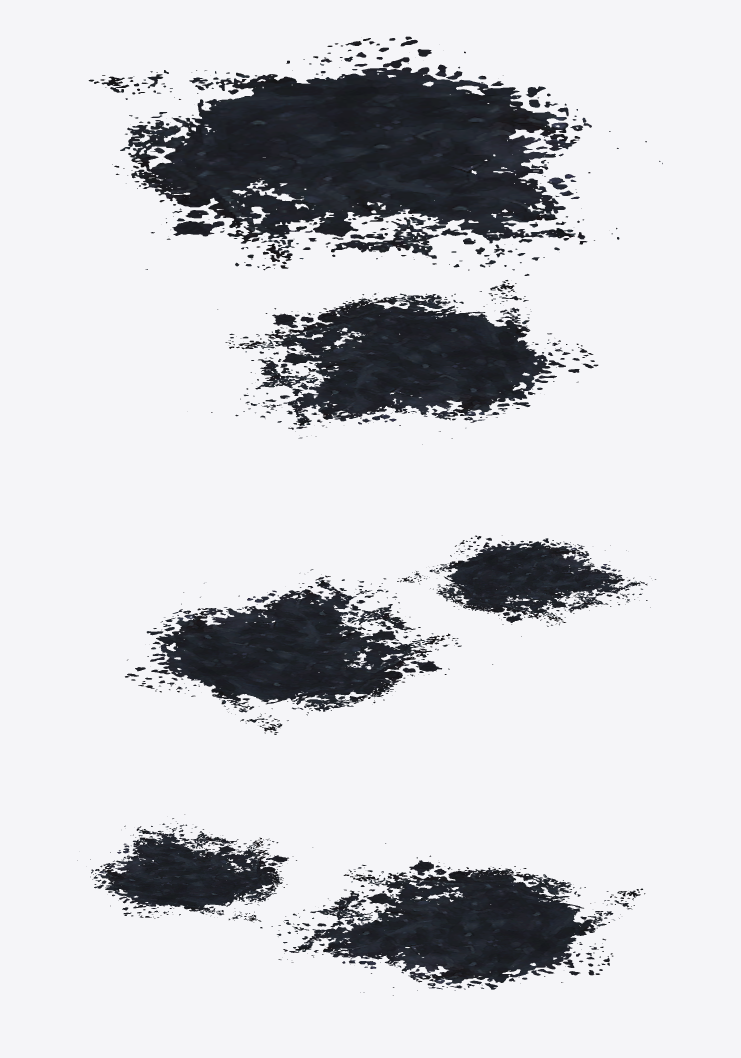
File: palace_floor_decal_04.fbx
3 views of the same model, one above another, from view 1: azimuth 30°, elevation 25°; view 2: azimuth 150°, elevation 25°; view 3: azimuth 270°, elevation 25° (orthographic). The views are drawn at different scales.
Visible parts, largest first — view 1: palace_tileset/palace_decalss01_shadow_mat; view 2: palace_tileset/palace_decalss01_shadow_mat; view 3: palace_tileset/palace_decalss01_shadow_mat.
Boxes of the visible parts, x1,y1,x2,y2 form: palace_tileset/palace_decalss01_shadow_mat: (88, 36, 662, 444); palace_tileset/palace_decalss01_shadow_mat: (125, 535, 655, 734); palace_tileset/palace_decalss01_shadow_mat: (77, 814, 645, 995).
Size of the model in its own units: 9.08 by 0.001 by 10.99.
